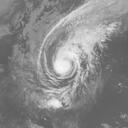cyclone: (35, 32, 100, 110)
